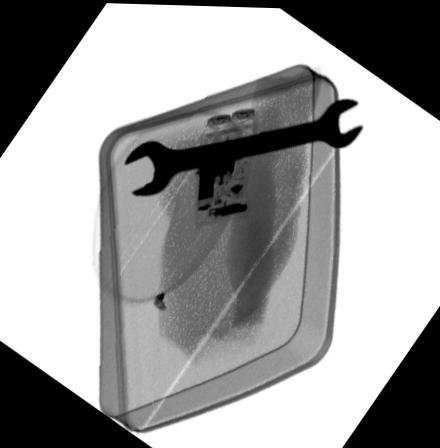Wrench: (120, 94, 366, 196)
